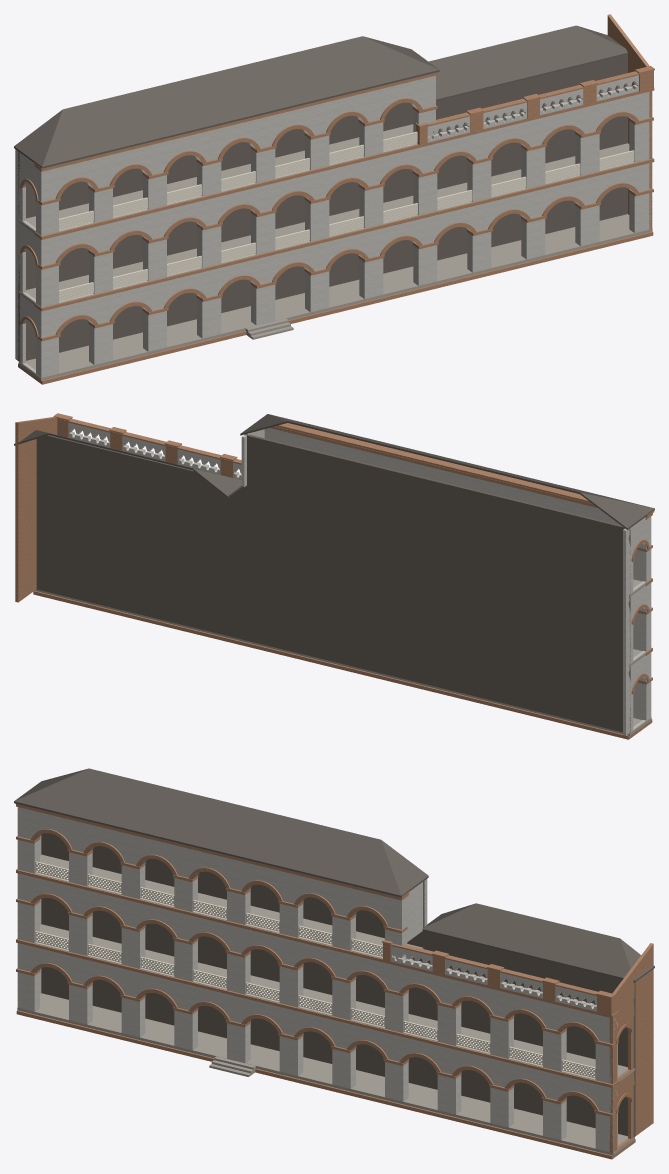
Rendered from changning-st-johns-yen-hall-arcade-raw.glb.
3 renders of one model, top to bottom at view 1: azimuth 30°, elevation 25°; view 2: azimuth 150°, elevation 25°; view 3: azimuth 330°, elevation 25°, orthographic. The views are drawn at different scales.
Visible parts, largest first — view 1: 圣约翰大学思颜堂四十号楼草坪前廊; view 2: 圣约翰大学思颜堂四十号楼草坪前廊; view 3: 圣约翰大学思颜堂四十号楼草坪前廊.
Boxes of the visible parts, x1,y1,x2,y2 form: 圣约翰大学思颜堂四十号楼草坪前廊: (14,14,654,384); 圣约翰大学思颜堂四十号楼草坪前廊: (14,413,654,739); 圣约翰大学思颜堂四十号楼草坪前廊: (14,768,654,1159).
Size of the model in its own units: 43.01 by 16.35 by 5.98.
Materials: 6 (2 with a texture image).
